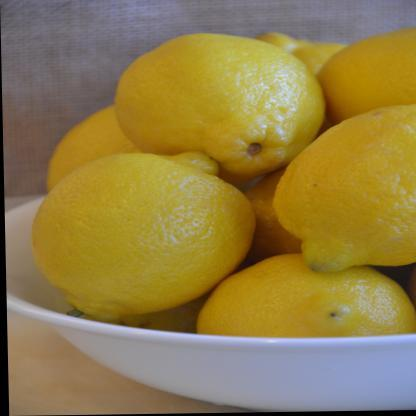lemon: (30, 149, 258, 322), (115, 31, 327, 184), (272, 103, 416, 274), (195, 250, 416, 337), (316, 27, 416, 125), (45, 102, 116, 193)
